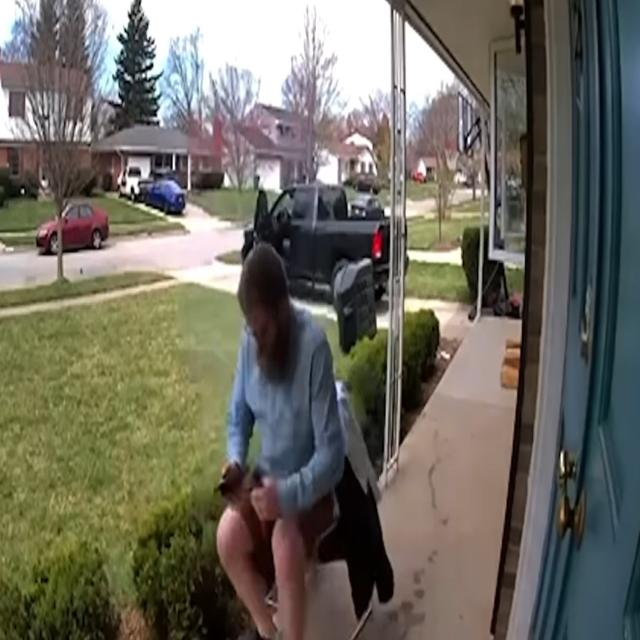sitting: (216, 243, 356, 639)
